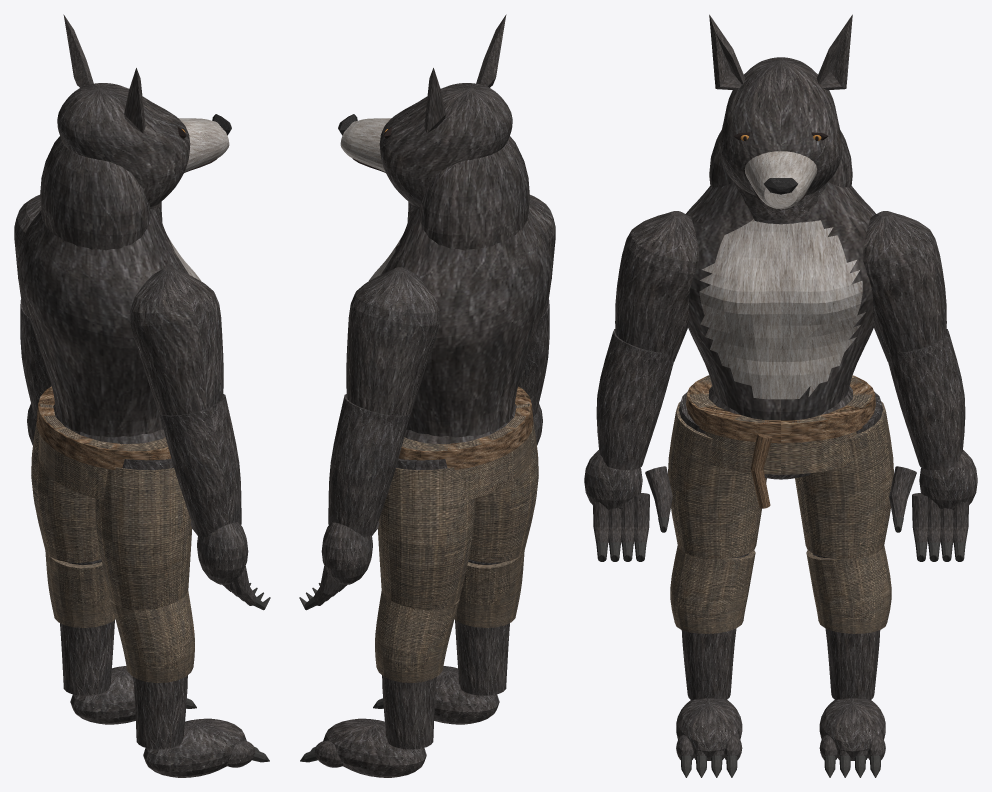
Rendered from lobizon.obj.
The picture shows the model from 3 angles, left to right: view 1: azimuth 30°, elevation 25°; view 2: azimuth 150°, elevation 25°; view 3: azimuth 270°, elevation 25°; orthographic projection.
Visible parts, largest first — view 1: torso_fur, right_thigh_cloth, head_fur, right_upper_fur, right_fore_fur, right_shin_cloth, left_thigh_cloth, right_foot_fur, left_shin_cloth, left_shin_fur, right_shin_fur, pelvis_cloth (+8 smaller); view 2: torso_fur, left_thigh_cloth, head_fur, left_upper_fur, left_fore_fur, left_shin_cloth, right_thigh_cloth, left_foot_fur, right_shin_cloth, right_shin_fur, left_shin_fur, pelvis_cloth (+8 smaller); view 3: torso_chest, head_fur, torso_fur, right_upper_fur, left_upper_fur, left_thigh_cloth, right_thigh_cloth, right_fore_fur, left_fore_fur, pelvis_rope, left_shin_cloth, right_shin_cloth (+12 smaller).
Part boxes in pixels (x1,y1,x2,y2): torso_fur: (17, 136, 188, 437); right_thigh_cloth: (94, 467, 192, 610); head_fur: (57, 14, 190, 222); right_upper_fur: (130, 267, 223, 418); right_fore_fur: (159, 394, 241, 536); right_shin_cloth: (110, 591, 194, 682); left_thigh_cloth: (31, 423, 101, 562); right_foot_fur: (143, 718, 255, 777); left_shin_cloth: (45, 551, 115, 627); left_shin_fur: (60, 560, 114, 695); right_shin_fur: (133, 675, 187, 749); pelvis_cloth: (38, 403, 167, 499); torso_fur: (381, 136, 552, 437); left_thigh_cloth: (377, 467, 475, 610); head_fur: (379, 14, 512, 222); left_upper_fur: (346, 267, 439, 418); left_fore_fur: (328, 394, 410, 536); left_shin_cloth: (375, 591, 459, 682); right_thigh_cloth: (468, 423, 538, 562); left_foot_fur: (314, 718, 426, 777); right_shin_cloth: (454, 551, 524, 627); right_shin_fur: (455, 560, 509, 695); left_shin_fur: (382, 675, 436, 749); pelvis_cloth: (402, 403, 531, 500); torso_chest: (699, 219, 865, 399); head_fur: (709, 14, 852, 224); torso_fur: (686, 130, 875, 420); right_upper_fur: (615, 211, 698, 362); left_upper_fur: (863, 211, 946, 362); left_thigh_cloth: (795, 401, 893, 559); right_thigh_cloth: (668, 401, 766, 559); right_fore_fur: (596, 329, 673, 469); left_fore_fur: (888, 329, 965, 469); pelvis_rope: (686, 375, 875, 508); left_shin_cloth: (806, 545, 891, 633); right_shin_cloth: (670, 545, 755, 633).
Size of the model in its own units: 27.39 by 100 by 50.24.
Materials: 2 (2 with a texture image).
